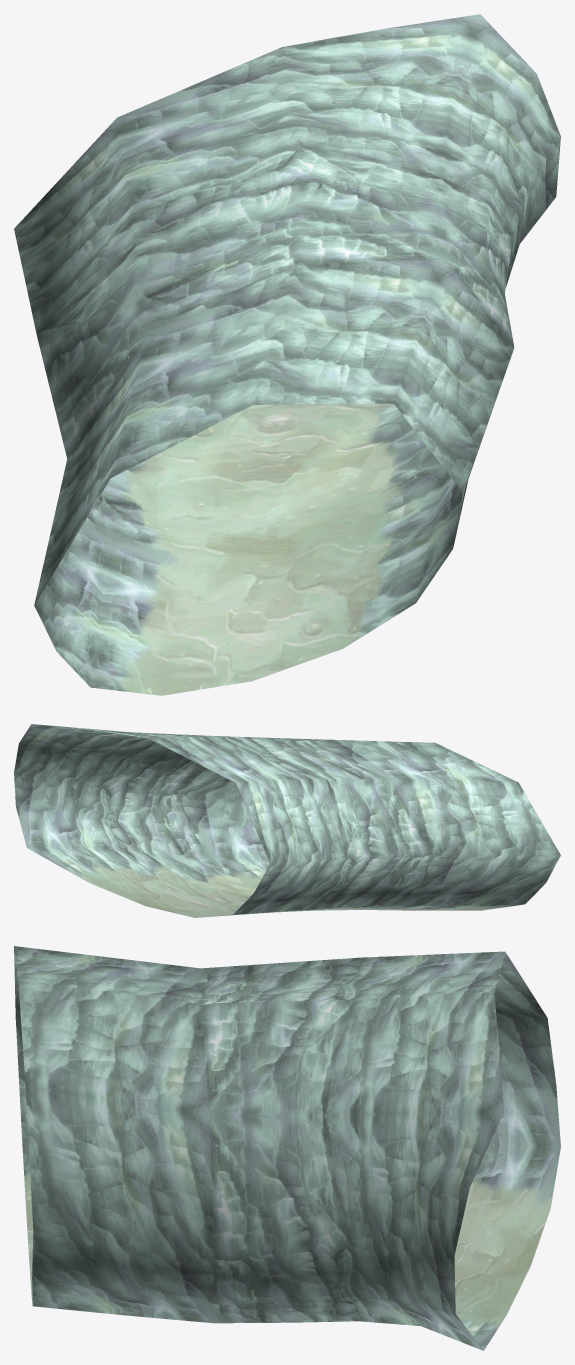
The model's file is TROLLHOLE02_PS-MAINCAVE13.fbx.
3 views of the same model, one above another, from view 1: azimuth 30°, elevation 25°; view 2: azimuth 150°, elevation 25°; view 3: azimuth 270°, elevation 25° (orthographic). The views are drawn at different scales.
Parts seen in each view (by area): view 1: TROLLHOLE02_PS-MAINCAVE13; view 2: TROLLHOLE02_PS-MAINCAVE13; view 3: TROLLHOLE02_PS-MAINCAVE13.
Part boxes in pixels (x1,y1,x2,y2): TROLLHOLE02_PS-MAINCAVE13: (14, 14, 560, 695); TROLLHOLE02_PS-MAINCAVE13: (14, 724, 560, 917); TROLLHOLE02_PS-MAINCAVE13: (14, 946, 560, 1350).
Size of the model in its own units: 130236 by 66388 by 82992.
2 materials, 2 textured.
